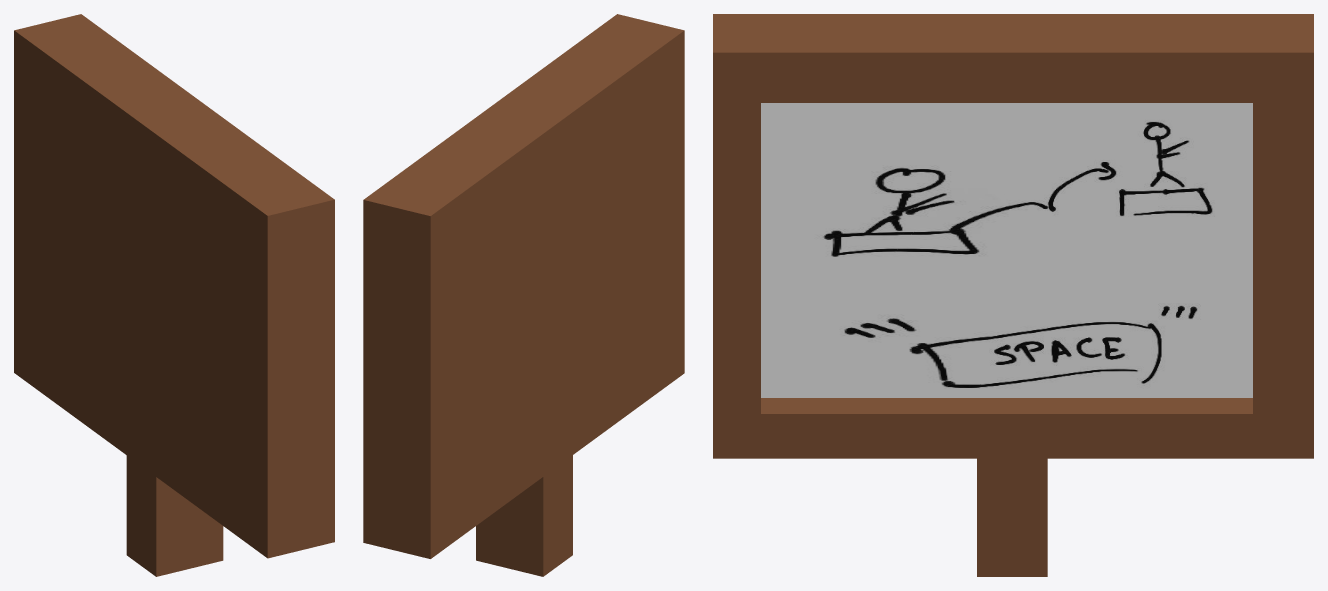
Rendered from CartelSpace2.fbx.
3 views of the same model, side by side, from view 1: azimuth 30°, elevation 25°; view 2: azimuth 150°, elevation 25°; view 3: azimuth 270°, elevation 25° (orthographic). The views are drawn at different scales.
Parts seen in each view (by area): view 1: Cube; view 2: Cube; view 3: Cube.
Part boxes in pixels (x1,y1,x2,y2): Cube: (14, 14, 334, 576); Cube: (363, 14, 684, 576); Cube: (713, 14, 1313, 576).
Bounding box in the file's own units: 135 × 849 × 882.
